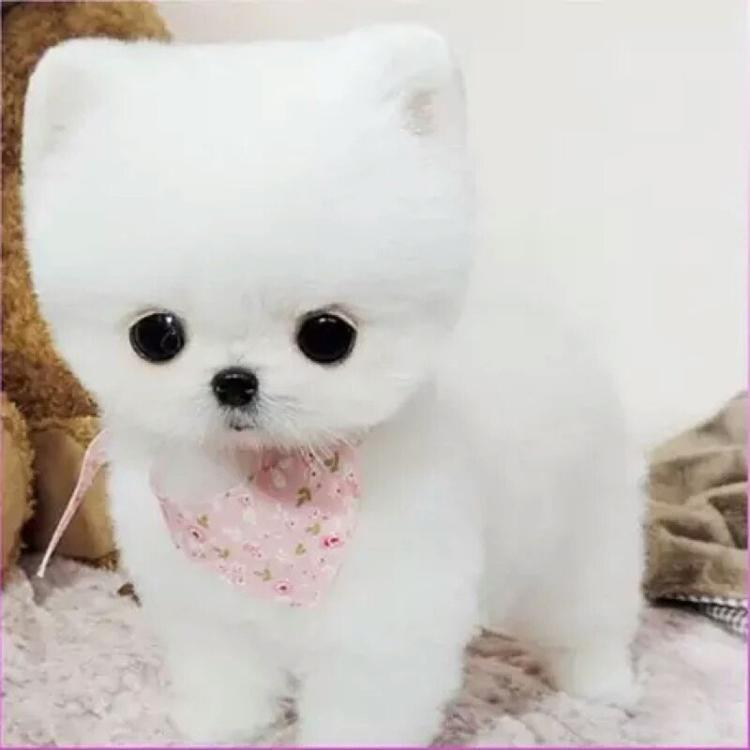dog: (18, 20, 651, 741)
